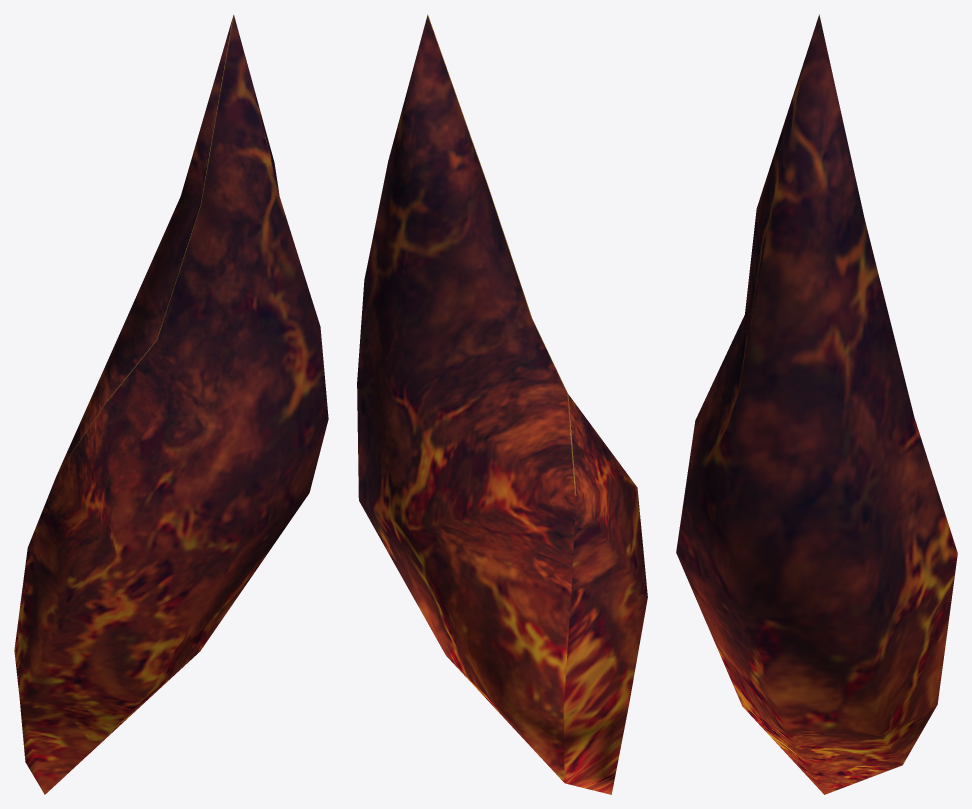
File: Scene_rongyan_008.FBX
The picture shows the model from 3 angles, left to right: view 1: azimuth 30°, elevation 25°; view 2: azimuth 150°, elevation 25°; view 3: azimuth 270°, elevation 25°; orthographic projection. The views are drawn at different scales.
Parts seen in each view (by area): view 1: Scene_rongyan_008; view 2: Scene_rongyan_008; view 3: Scene_rongyan_008.
Boxes of the visible parts, left/top/right/bottom form: Scene_rongyan_008: left=14, top=14, right=328, bottom=794; Scene_rongyan_008: left=357, top=14, right=647, bottom=794; Scene_rongyan_008: left=676, top=14, right=957, bottom=794.
Bounding box in the file's own units: 2.35 × 6.22 × 1.78.
